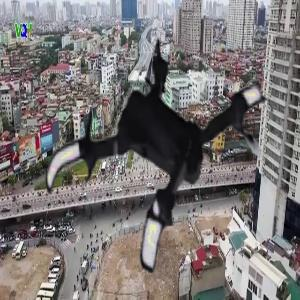drone: (36, 14, 299, 277)
